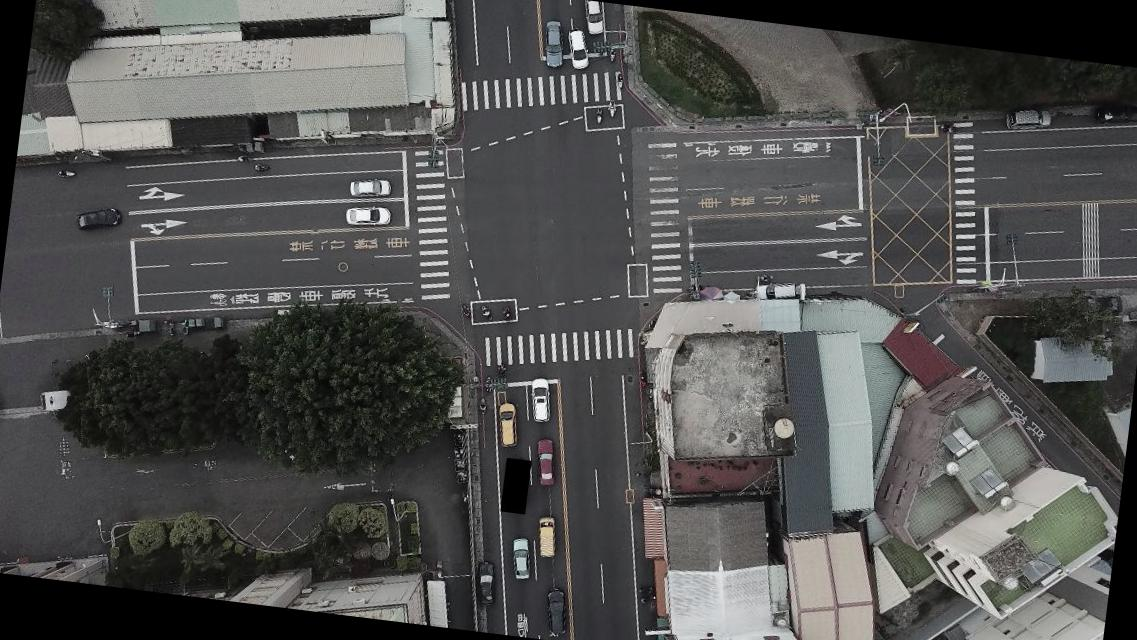vehicle: (74, 203, 126, 235), (528, 437, 560, 488), (538, 19, 568, 69), (1092, 98, 1136, 132), (1004, 104, 1052, 135), (343, 201, 392, 231), (346, 173, 392, 202), (526, 377, 554, 424), (492, 401, 520, 447), (470, 560, 498, 606), (564, 27, 592, 72), (542, 588, 569, 634), (508, 536, 535, 582), (533, 515, 558, 561), (578, 0, 606, 37)
